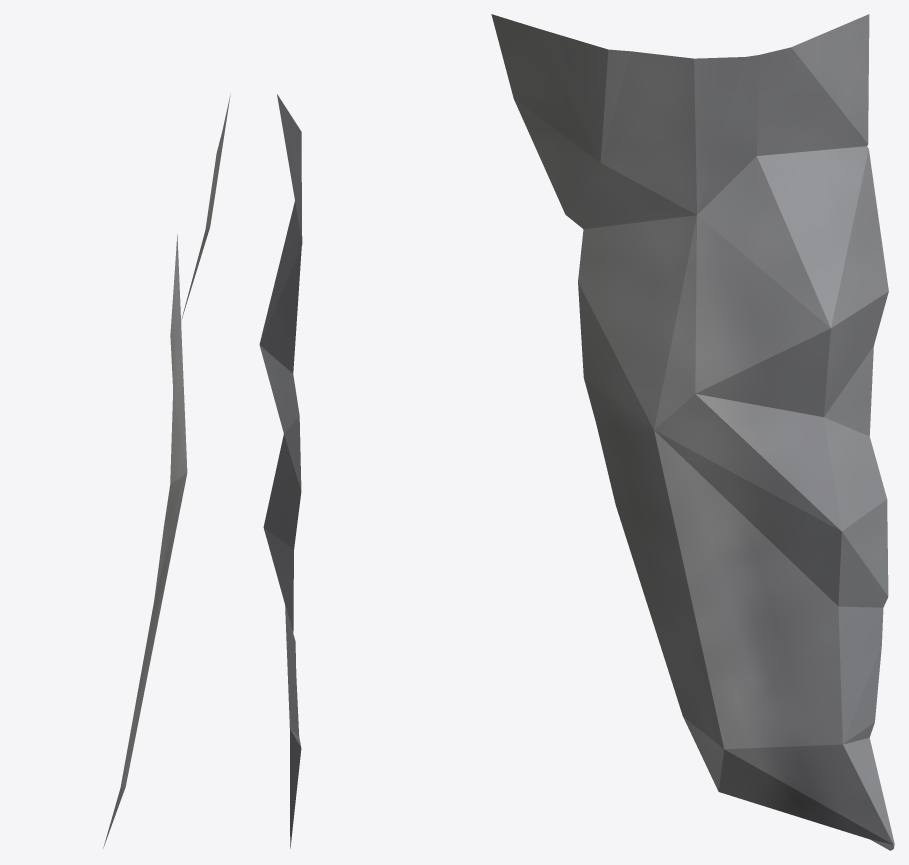
The picture shows the model from 3 angles, left to right: view 1: azimuth 30°, elevation 25°; view 2: azimuth 150°, elevation 25°; view 3: azimuth 270°, elevation 25°; orthographic projection. The views are drawn at different scales.
Bounding box in the file's own units: 0.0171 × 0.1493 × 0.0652.
1 material, 1 textured.
